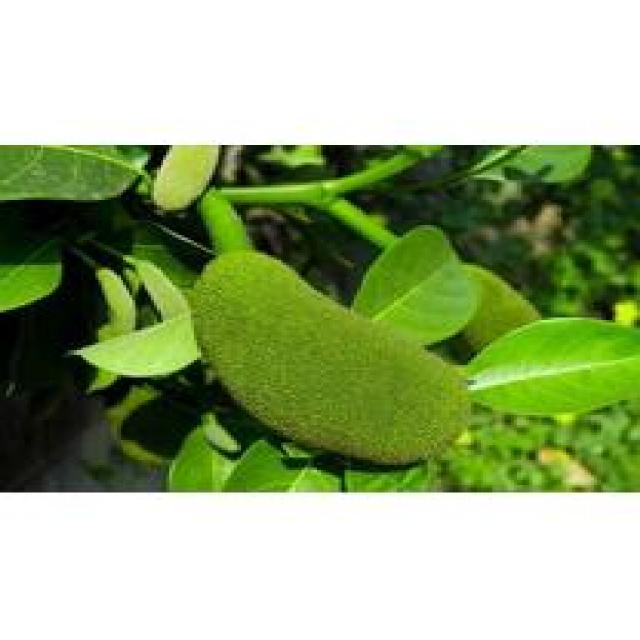Fruit: (154, 208, 511, 488)
